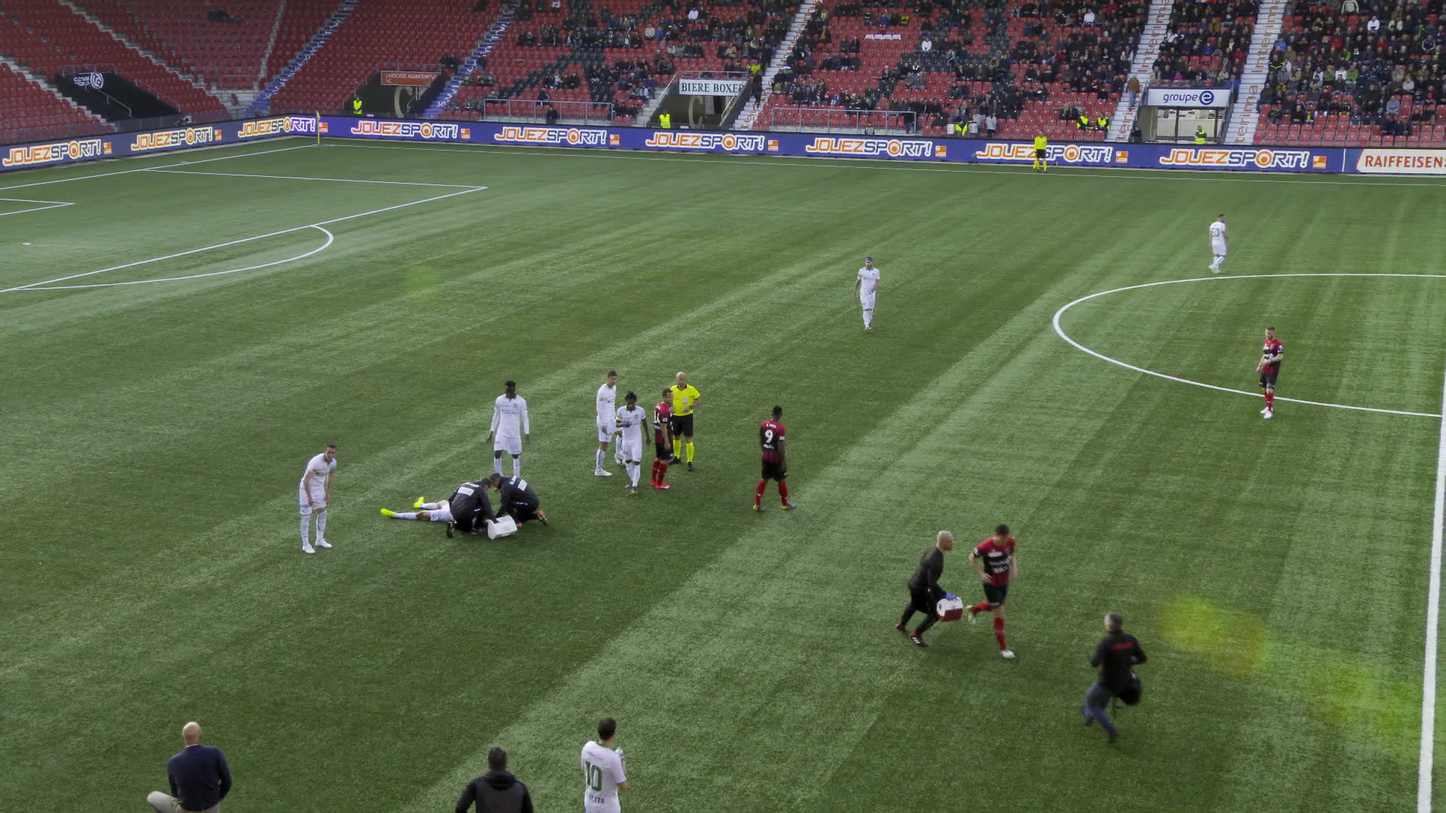ball: (1079, 611, 1146, 744), (895, 530, 955, 648), (489, 472, 548, 527), (446, 477, 499, 538), (616, 456, 625, 464)
player: (966, 522, 1017, 659), (486, 380, 530, 491), (752, 406, 796, 512), (581, 715, 627, 812), (298, 443, 336, 553), (615, 389, 649, 494), (1255, 324, 1283, 419), (648, 387, 672, 489), (593, 370, 616, 476), (853, 257, 879, 332), (379, 496, 453, 521), (1208, 212, 1232, 273)
referee: (666, 371, 700, 470), (1034, 129, 1048, 172)
